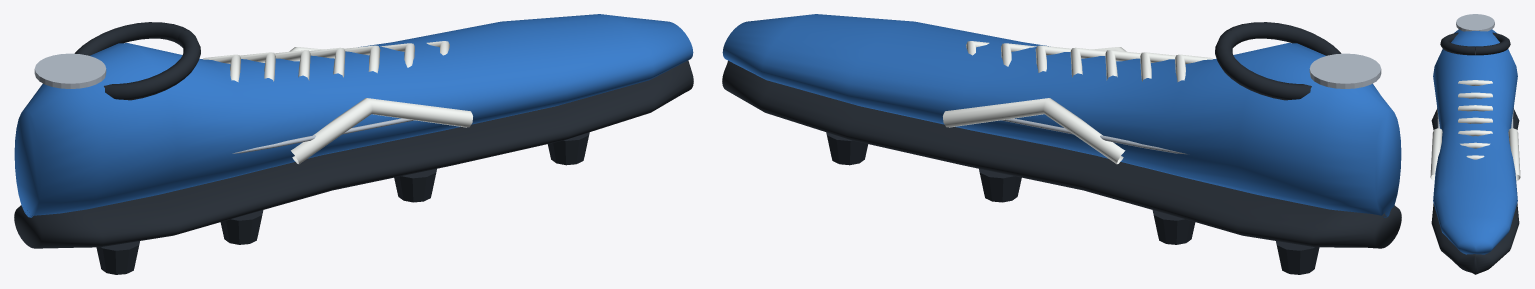
The model's file is boot.glb.
3 views of the same model, side by side, from view 1: azimuth 30°, elevation 25°; view 2: azimuth 150°, elevation 25°; view 3: azimuth 270°, elevation 25° (orthographic). The views are drawn at different scales.
Parts seen in each view (by area): view 1: HERO_upper, MESH_Sole_Graphite, MESH_Laces_Ivory, MESH_Trim_Silver; view 2: HERO_upper, MESH_Sole_Graphite, MESH_Laces_Ivory, MESH_Trim_Silver; view 3: HERO_upper, MESH_Sole_Graphite, MESH_Laces_Ivory, MESH_Trim_Silver.
Part boxes in pixels (x1,y1,x2,y2): HERO_upper: [14, 14, 693, 217]; MESH_Sole_Graphite: [14, 22, 693, 274]; MESH_Laces_Ivory: [203, 41, 472, 164]; MESH_Trim_Silver: [34, 53, 414, 153]; HERO_upper: [722, 14, 1401, 217]; MESH_Sole_Graphite: [722, 22, 1401, 274]; MESH_Laces_Ivory: [943, 41, 1212, 164]; MESH_Trim_Silver: [1001, 53, 1381, 154]; HERO_upper: [1433, 29, 1517, 254]; MESH_Sole_Graphite: [1431, 32, 1519, 274]; MESH_Laces_Ivory: [1430, 80, 1520, 180]; MESH_Trim_Silver: [1437, 14, 1513, 128].
Bounding box in the file's own units: 1.55 × 0.45 × 0.34.
